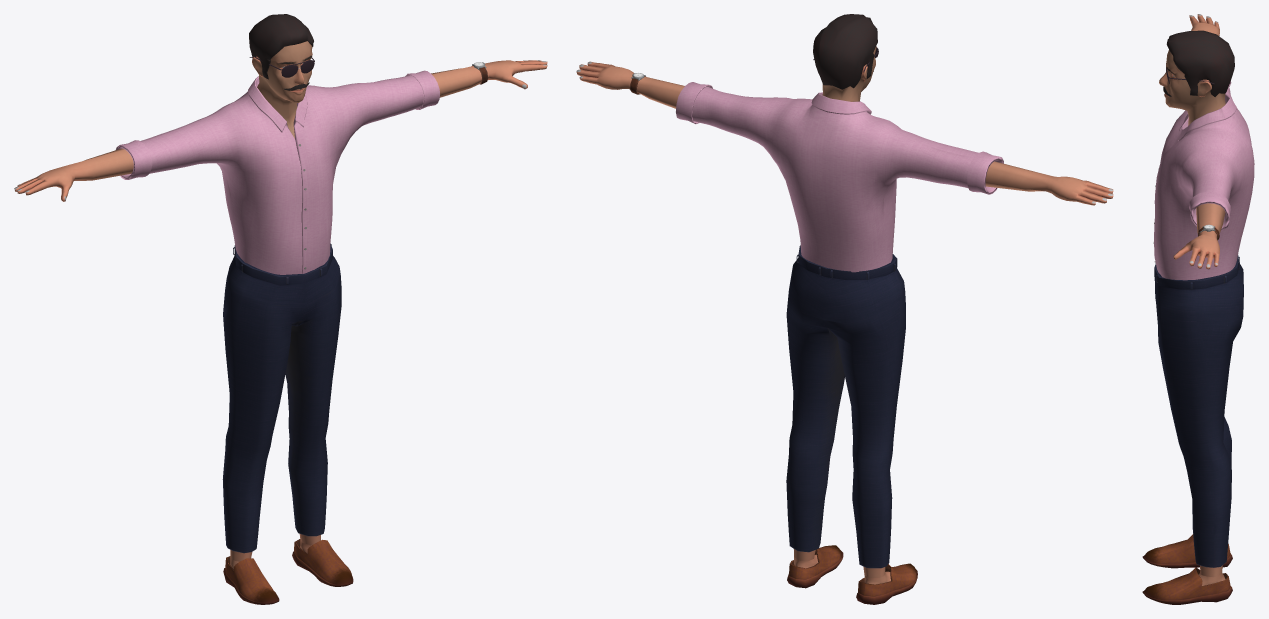
Rendered from Formal_With Mustache_Mdl.fbx.
3 views of the same model, side by side, from view 1: azimuth 30°, elevation 25°; view 2: azimuth 150°, elevation 25°; view 3: azimuth 270°, elevation 25° (orthographic). The views are drawn at different scales.
Parts seen in each view (by area): view 1: shirt, paint, face1, polySurface54, polySurface53, polySurface19, polySurface49; view 2: paint, shirt, face1, polySurface54, polySurface53, polySurface49, polySurface19; view 3: paint, shirt, face1, polySurface19, polySurface53, polySurface49, polySurface54.
Part boxes in pixels (left/top/right/bottom): shirt: left=116, top=70, right=439, bottom=274; paint: left=222, top=243, right=341, bottom=569; face1: left=249, top=14, right=313, bottom=138; polySurface54: left=14, top=148, right=133, bottom=201; polySurface53: left=431, top=60, right=547, bottom=97; polySurface19: left=292, top=539, right=353, bottom=586; polySurface49: left=223, top=556, right=279, bottom=604; paint: left=786, top=245, right=905, bottom=584; shirt: left=676, top=82, right=1003, bottom=272; face1: left=813, top=14, right=877, bottom=101; polySurface54: left=985, top=161, right=1113, bottom=205; polySurface53: left=576, top=61, right=684, bottom=108; polySurface49: left=856, top=563, right=917, bottom=604; polySurface19: left=787, top=545, right=843, bottom=588; paint: left=1154, top=255, right=1243, bottom=585; shirt: left=1153, top=81, right=1254, bottom=280; face1: left=1159, top=30, right=1234, bottom=125; polySurface19: left=1142, top=567, right=1232, bottom=604; polySurface53: left=1173, top=203, right=1225, bottom=269; polySurface49: left=1142, top=534, right=1232, bottom=568; polySurface54: left=1189, top=14, right=1219, bottom=35.
Bounding box in the file's own units: 178 × 180 × 33.42.
